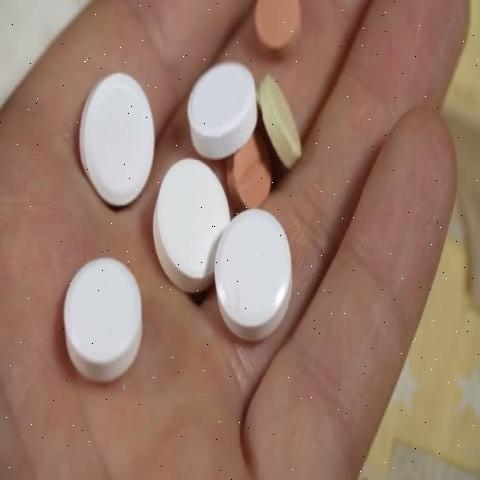Pill: (66, 44, 159, 210), (58, 232, 146, 404), (207, 202, 302, 351), (151, 148, 233, 302), (177, 48, 258, 164)
